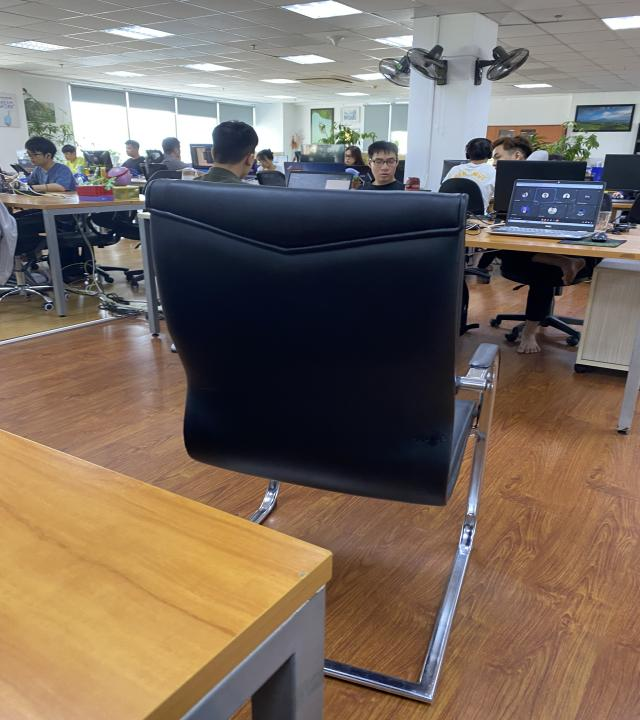SS_03: (139, 173, 505, 708)
